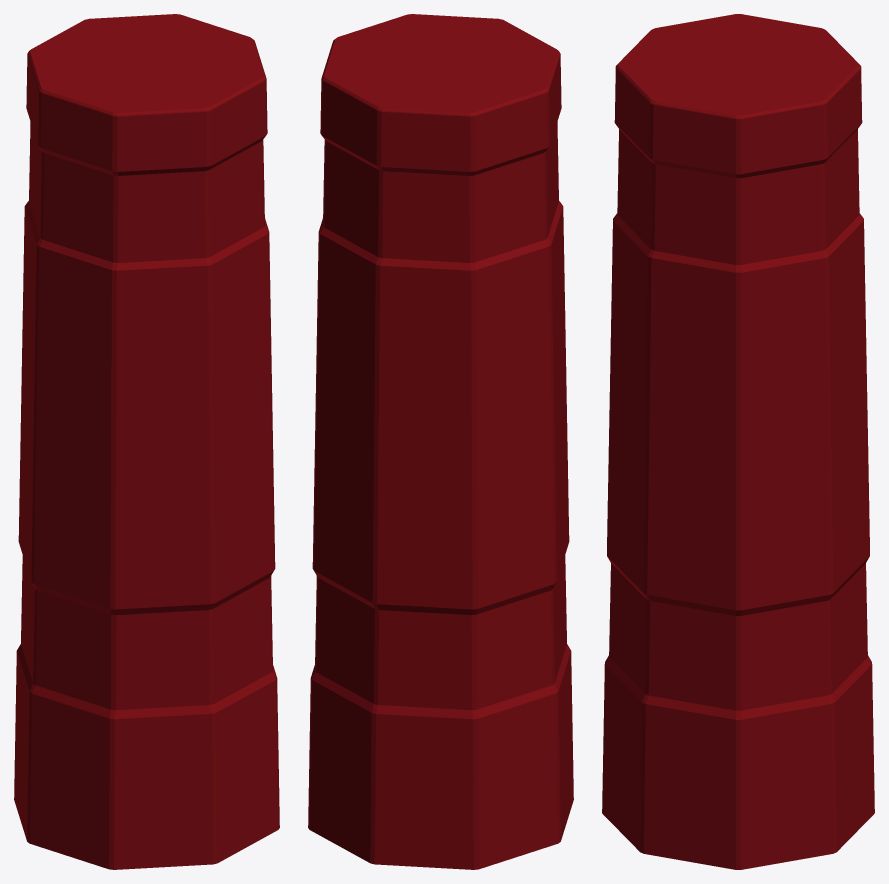
Rendered from SM_MH_01_Wood_Pillar_08.fbx.
3 views of the same model, side by side, from view 1: azimuth 30°, elevation 25°; view 2: azimuth 150°, elevation 25°; view 3: azimuth 270°, elevation 25° (orthographic).
Visible parts, largest first — view 1: SM_MH_01_Wood_Pillar_08_LOD0; view 2: SM_MH_01_Wood_Pillar_08_LOD0; view 3: SM_MH_01_Wood_Pillar_08_LOD0.
Boxes of the visible parts, x1,y1,x2,y2 form: SM_MH_01_Wood_Pillar_08_LOD0: (14, 14, 279, 869); SM_MH_01_Wood_Pillar_08_LOD0: (308, 14, 573, 869); SM_MH_01_Wood_Pillar_08_LOD0: (602, 14, 874, 869).
Size of what is drawn, in the model's own units: 99.23 by 300 by 99.23.
